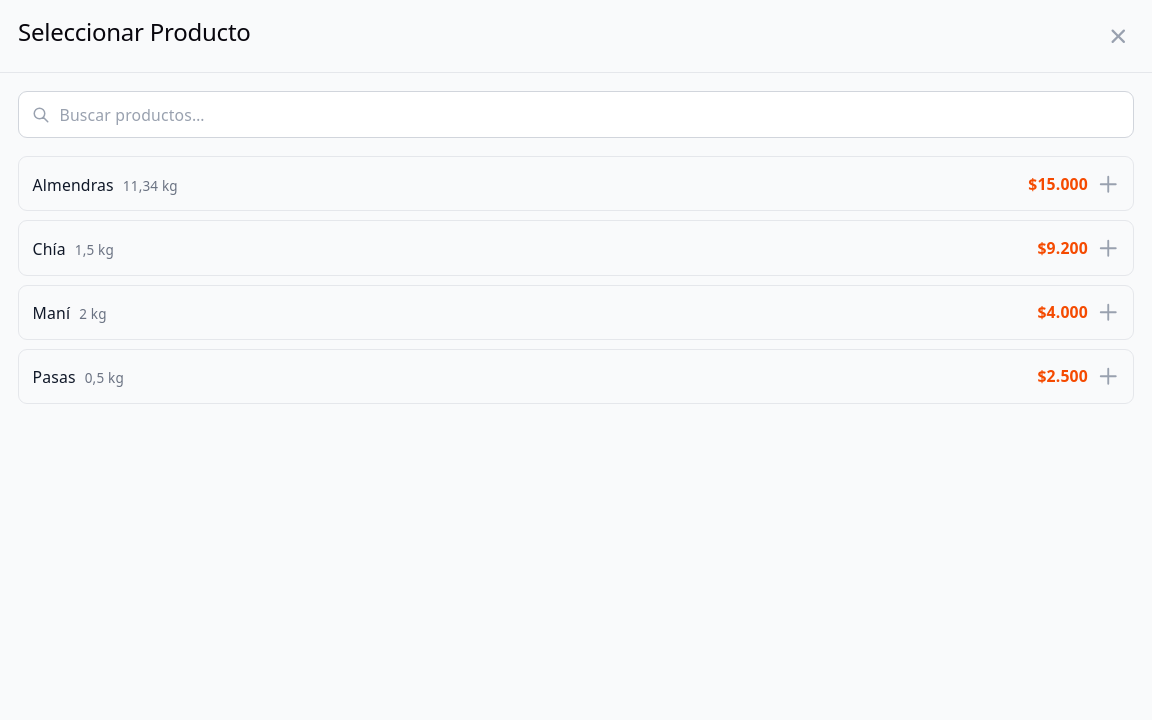
Test: QuoteProductSelector › should filter products by search term
# Search for "al" - should match "Almendras"
Type "al" into the field with placeholder "Buscar productos…". click: (576, 115)
box: left=18, top=91, right=1134, bottom=138
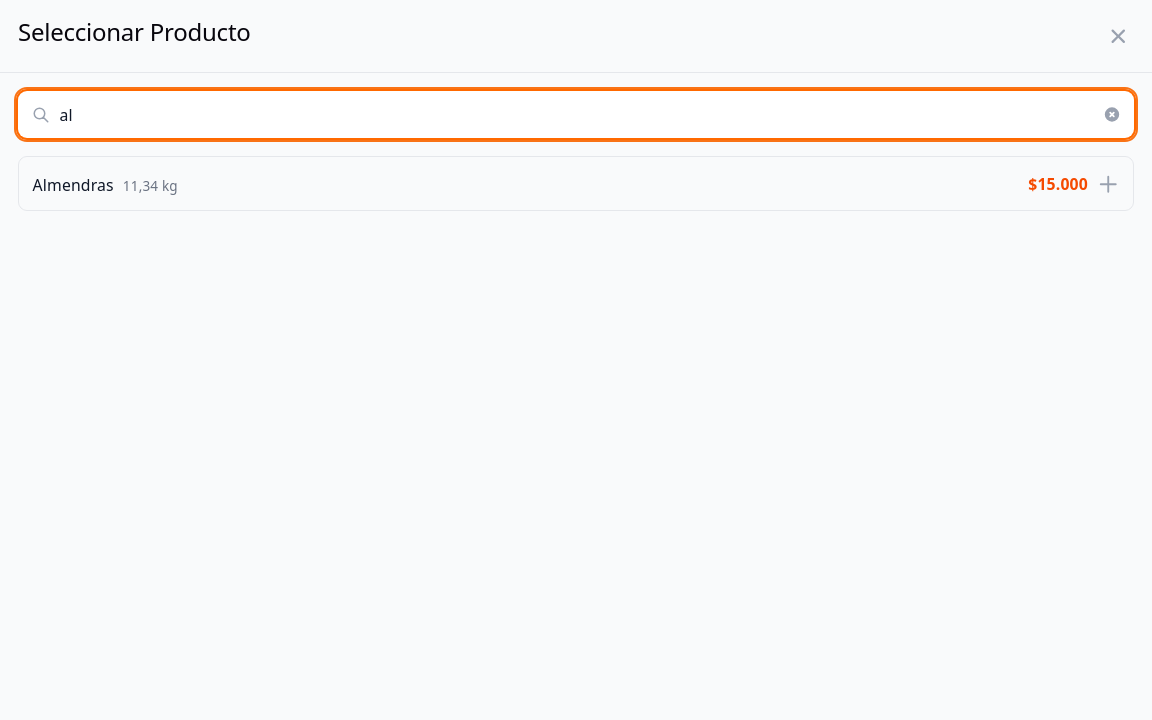
Expected: the text "Almendras" is shown, left=32, top=174, right=114, bottom=196
Now the button "Chía" is gone
Now the button "Pasas" is gone
